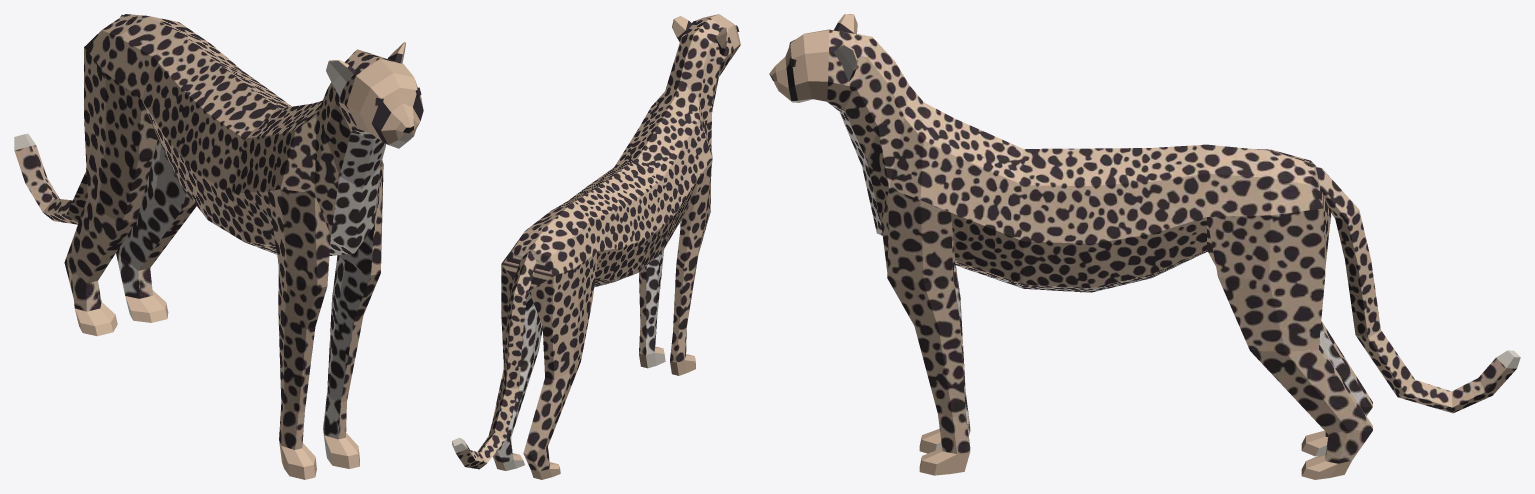
The model's file is cheetah.glb.
3 views of the same model, side by side, from view 1: azimuth 30°, elevation 25°; view 2: azimuth 150°, elevation 25°; view 3: azimuth 270°, elevation 25° (orthographic). The views are drawn at different scales.
Visible parts, largest first — view 1: Geo_Cheetah; view 2: Geo_Cheetah; view 3: Geo_Cheetah.
Part boxes in pixels (x1,y1,x2,y2): Geo_Cheetah: (14,14,423,479); Geo_Cheetah: (452,14,740,479); Geo_Cheetah: (769,14,1520,479).
Bounding box in the file's own units: 28.16 × 117 × 186.
Materials: 1 (1 with a texture image).
